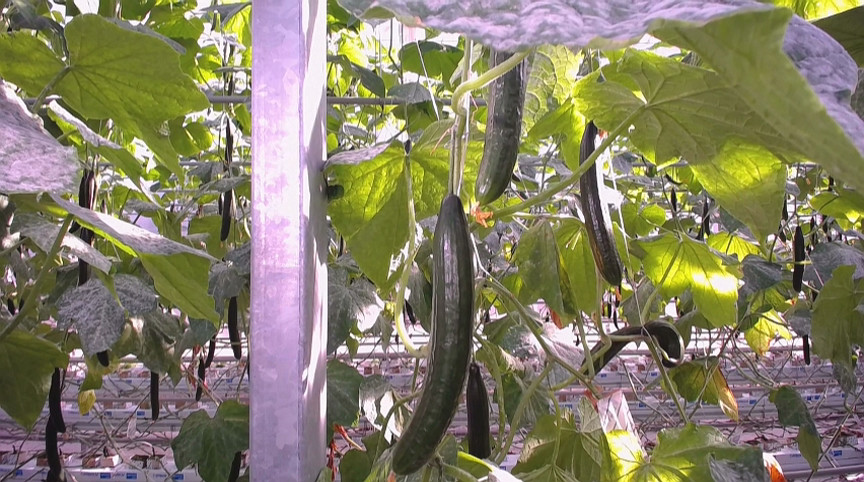cucumber: (392, 193, 472, 478), (475, 49, 531, 208), (577, 121, 625, 287), (467, 360, 490, 460), (224, 295, 245, 362), (47, 366, 67, 436), (793, 224, 806, 295)
